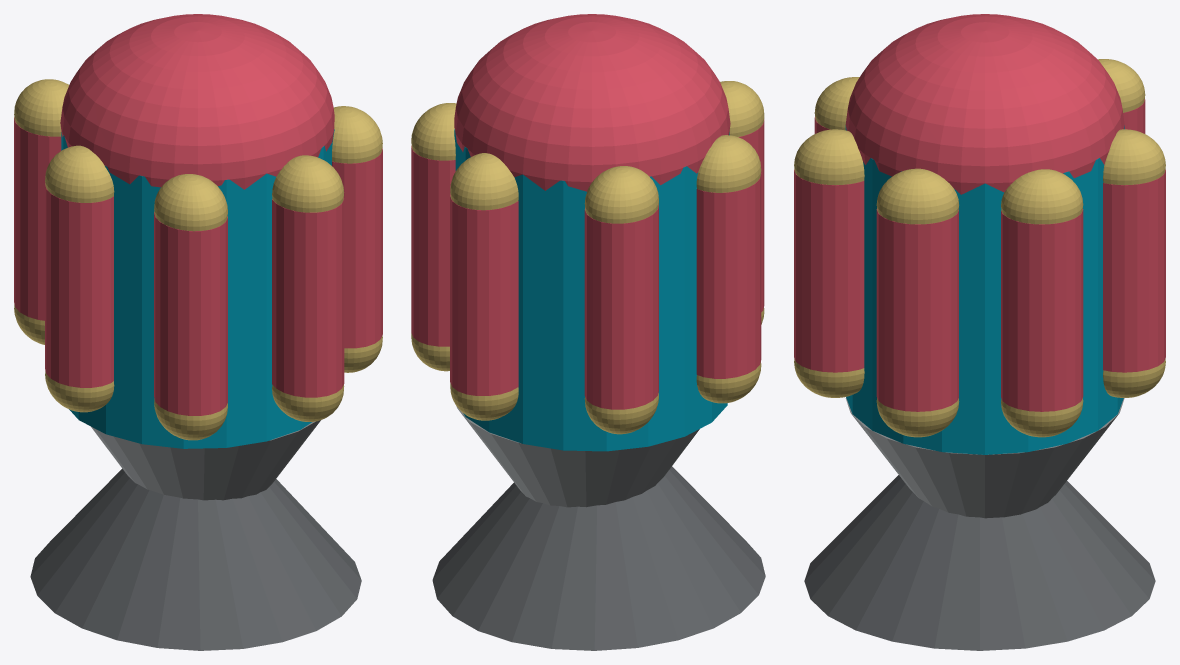
The model's file is Khatelyn_Rocket.glb.
3 views of the same model, side by side, from view 1: azimuth 30°, elevation 25°; view 2: azimuth 150°, elevation 25°; view 3: azimuth 270°, elevation 25° (orthographic).
Visible parts, largest first — view 1: Mesh_Mesh_head_geo.001_lambert2SG.001; view 2: Mesh_Mesh_head_geo.001_lambert2SG.001; view 3: Mesh_Mesh_head_geo.001_lambert2SG.001.
Part boxes in pixels (x1,y1,x2,y2): Mesh_Mesh_head_geo.001_lambert2SG.001: [14, 14, 382, 650]; Mesh_Mesh_head_geo.001_lambert2SG.001: [411, 14, 765, 650]; Mesh_Mesh_head_geo.001_lambert2SG.001: [794, 14, 1165, 650].
Bounding box in the file's own units: 34 × 59 × 36.
